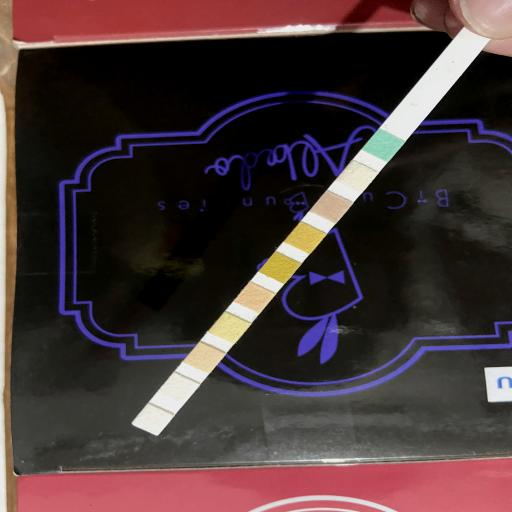Bilirubin: (345, 168, 369, 184)
Blood: (267, 260, 293, 276)
Glucose: (372, 138, 396, 154)
Ketone: (320, 200, 344, 216)
Leukocytes: (140, 413, 166, 427)
Nitrite: (166, 381, 192, 395)
Protein: (216, 321, 242, 335)
SpGravity: (292, 230, 318, 246)
Urobilinogen: (192, 350, 217, 366)
pH: (242, 290, 268, 304)
strip: (131, 30, 487, 436)
